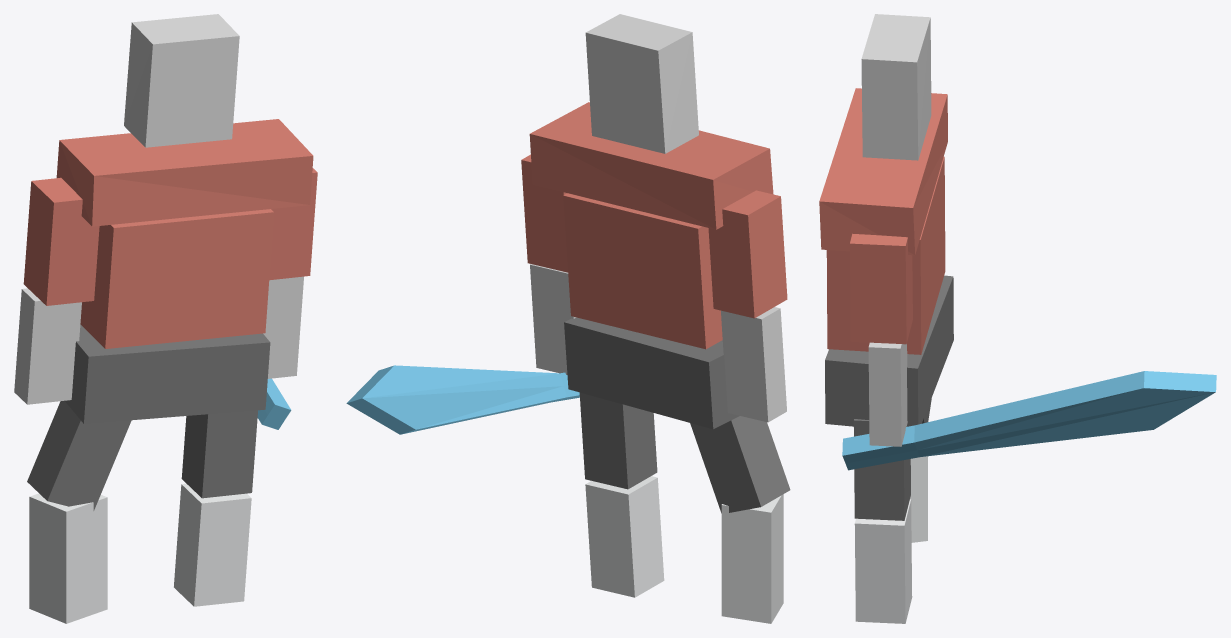
Rendered from swordman.gltf.
3 renders of one model, left to right at view 1: azimuth 30°, elevation 25°; view 2: azimuth 150°, elevation 25°; view 3: azimuth 270°, elevation 25°, orthographic.
Parts seen in each view (by area): view 1: Cube_19, Cube_26, Cube_18, Cube_21, Cube_14, Cube_17, Cube_22, Cube_15, Cube_24, Cube_16, Cube_23, Cube_20 (+1 smaller); view 2: Cube_19, Cube_26, Cube_21, Cube_18, Cube_25, Cube_22, Cube_17, Cube_14, Cube_15, Cube_24, Cube_16, Cube_23 (+1 smaller); view 3: Cube_25, Cube_26, Cube_21, Cube_18, Cube_20, Cube_19, Cube_17, Cube_23, Cube_16, Cube_14.
Boxes of the visible parts, x1,y1,x2,y2 form: Cube_19: [80, 209, 273, 348]; Cube_26: [56, 119, 313, 226]; Cube_18: [64, 324, 270, 423]; Cube_21: [124, 14, 239, 147]; Cube_14: [29, 493, 107, 623]; Cube_17: [174, 483, 251, 606]; Cube_22: [23, 177, 99, 305]; Cube_15: [27, 401, 131, 510]; Cube_24: [14, 288, 81, 404]; Cube_16: [181, 410, 257, 498]; Cube_23: [263, 276, 303, 378]; Cube_20: [269, 168, 317, 280]; Cube_19: [563, 193, 722, 349]; Cube_26: [529, 102, 773, 229]; Cube_21: [585, 14, 698, 153]; Cube_18: [564, 317, 739, 429]; Cube_25: [346, 365, 579, 434]; Cube_22: [708, 190, 787, 318]; Cube_17: [585, 476, 664, 597]; Cube_14: [721, 494, 783, 623]; Cube_15: [690, 416, 790, 513]; Cube_24: [721, 307, 786, 422]; Cube_16: [579, 392, 657, 489]; Cube_23: [530, 264, 576, 374]; Cube_25: [842, 371, 1216, 470]; Cube_26: [819, 88, 947, 255]; Cube_21: [861, 14, 931, 160]; Cube_18: [825, 275, 953, 426]; Cube_20: [850, 233, 912, 344]; Cube_19: [826, 156, 945, 354]; Cube_17: [854, 499, 912, 623]; Cube_23: [868, 342, 907, 446]; Cube_16: [853, 419, 910, 520]; Cube_14: [910, 456, 927, 542].
Size of the model in its own units: 7.67 by 14.3 by 9.07.
